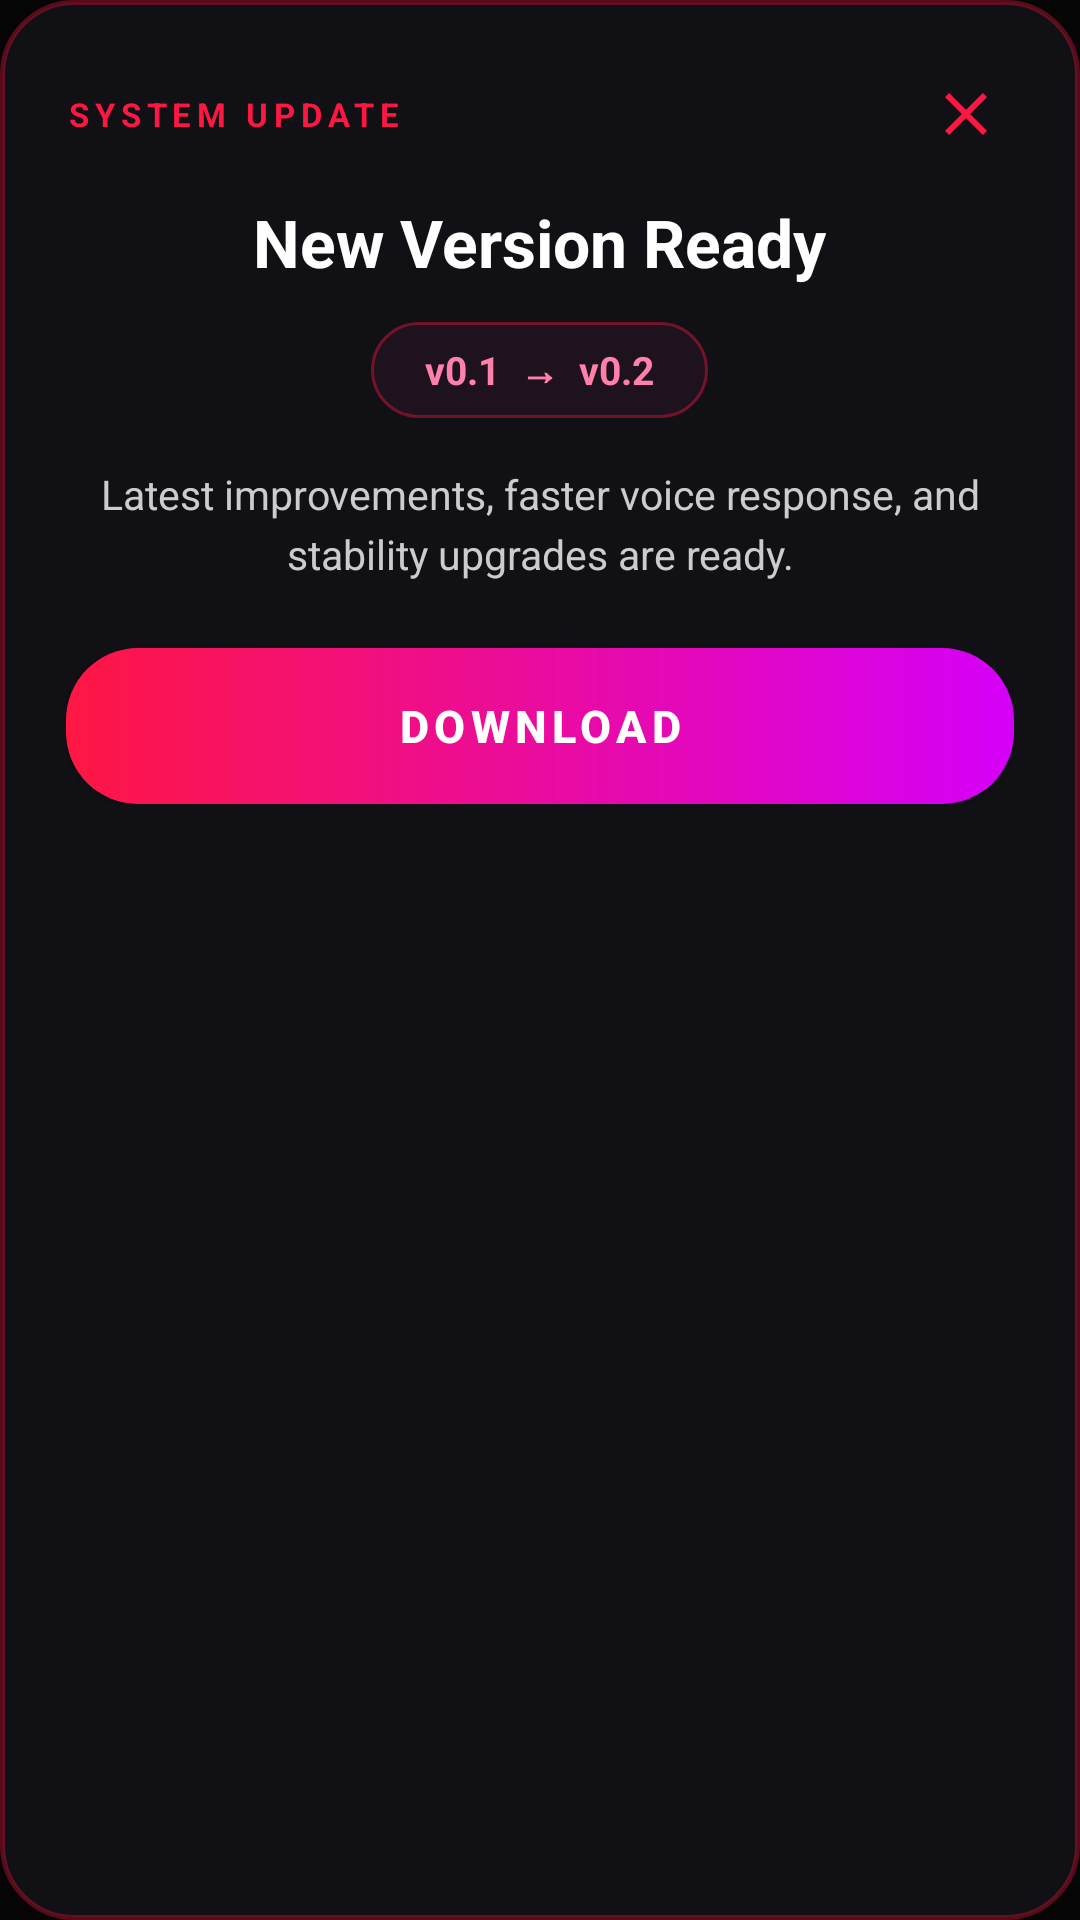

Where to tap for icons on this 1080×1920 app screen, as point (x, y):
Cancel update: point (966, 114)
